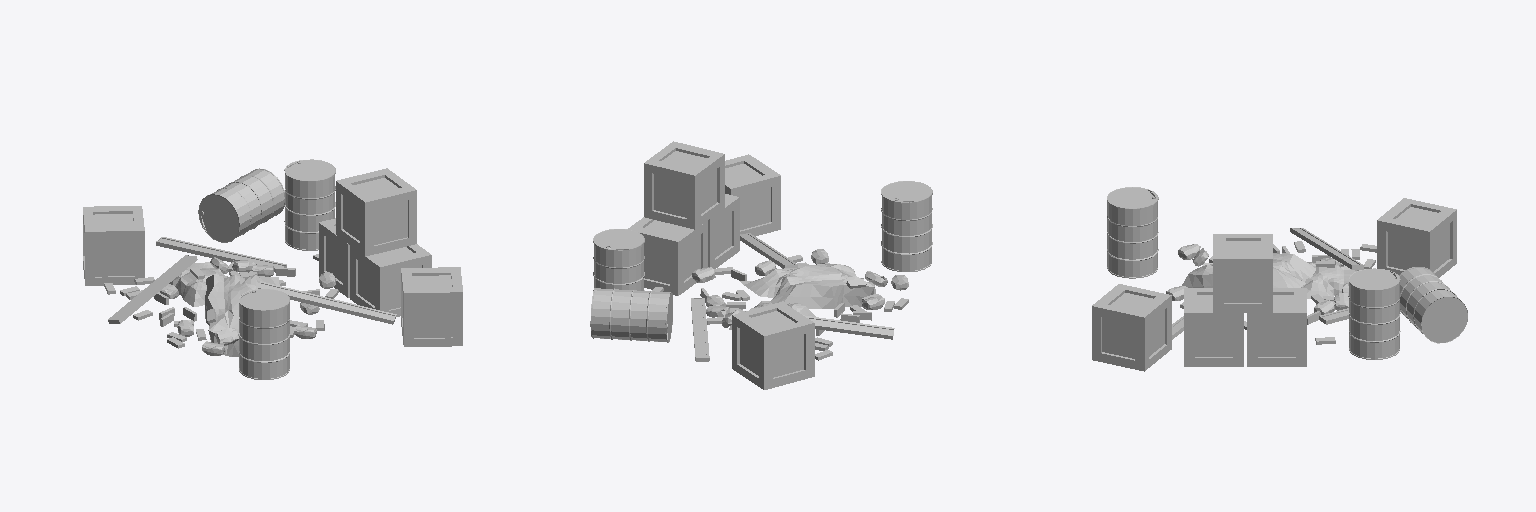
The model's file is Items.obj.
3 renders of one model, left to right at view 1: azimuth 30°, elevation 25°; view 2: azimuth 150°, elevation 25°; view 3: azimuth 270°, elevation 25°, orthographic.
Parts seen in each view (by area): view 1: items; view 2: items; view 3: items.
Part boxes in pixels (left/top/right/bottom): items: left=83, top=159, right=462, bottom=379; items: left=590, top=141, right=932, bottom=389; items: left=1092, top=187, right=1467, bottom=371.
Size of the model in its own units: 67.03 by 27.69 by 79.95.